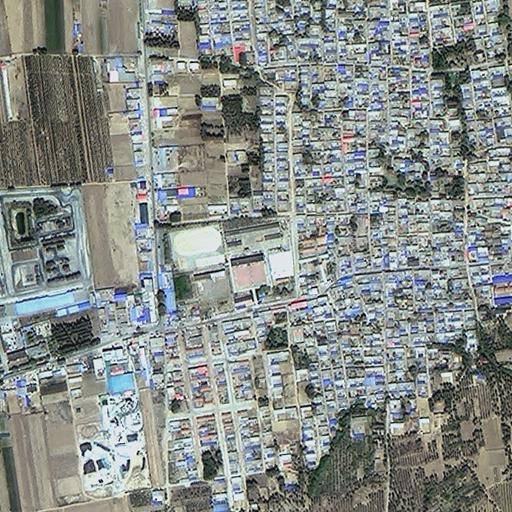school: (226, 219, 297, 305), (164, 229, 233, 311)
